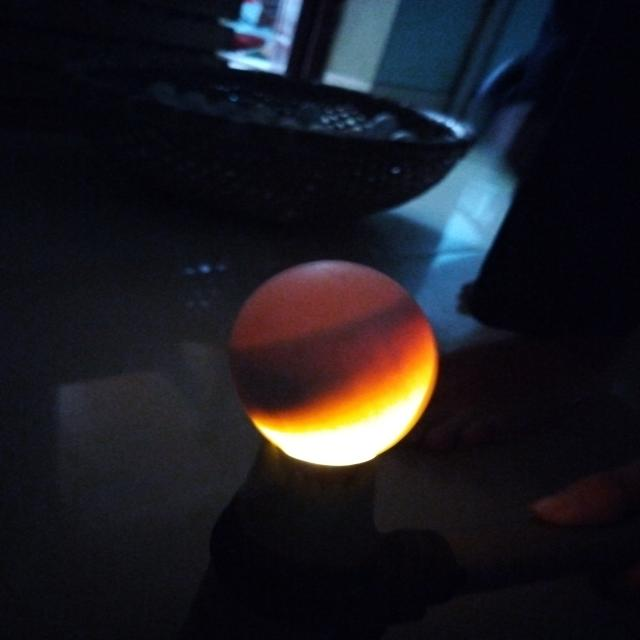Area Infectada: (228, 300, 420, 415)
